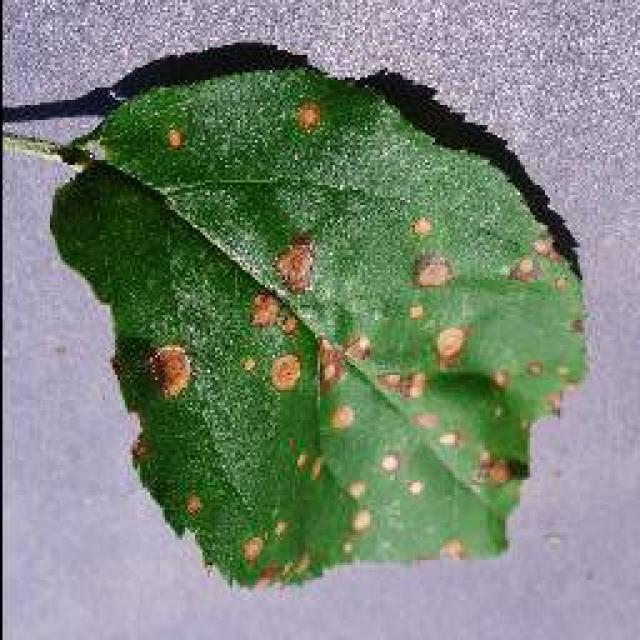apple scab disease: (42, 48, 590, 592)
